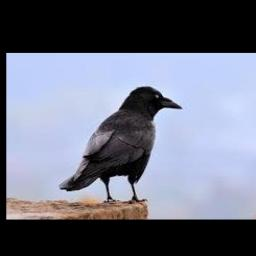Crow: (59, 85, 183, 203)
